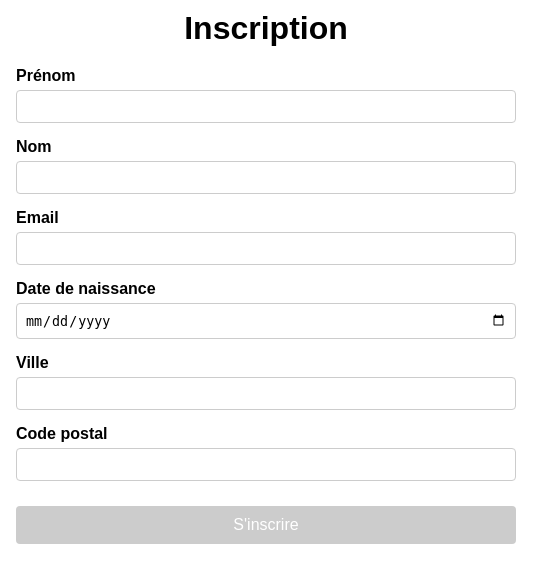
affiche l erreur 500 quand le serveur est down
Type "Kany" into the field labelled "Prénom" at (266, 107), box [16, 90, 516, 123]
Type "Chheng" into the field labelled "Nom" at (266, 178), box [16, 161, 516, 194]
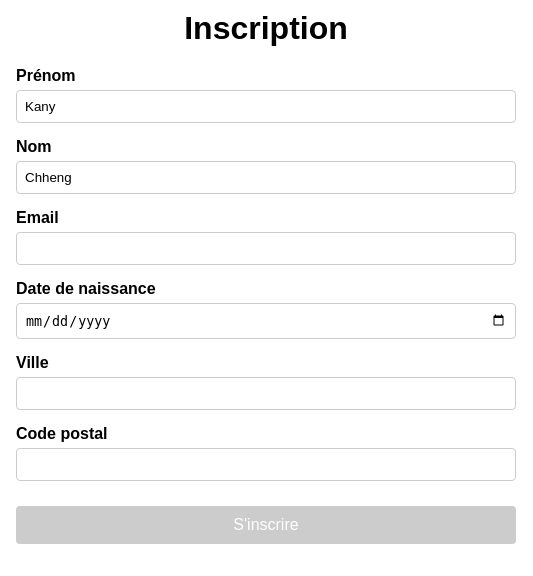
Type "kany@test.com" into the field labelled "Email" at (266, 249), box [16, 232, 516, 265]
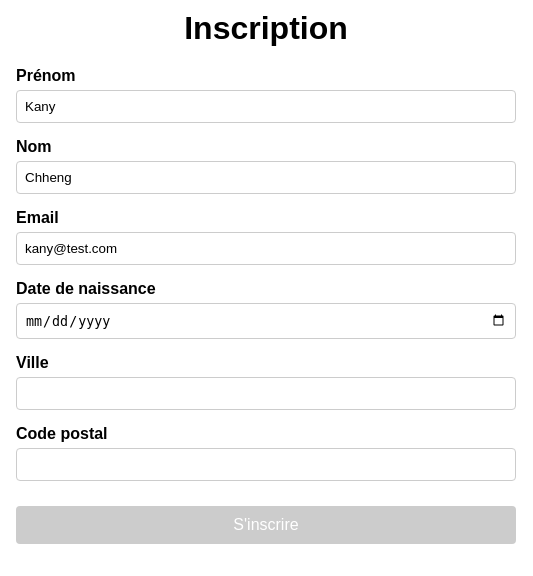
Type "1998-03-22" into the date field labelled "Date de naissance" at (266, 321), box [16, 303, 516, 339]
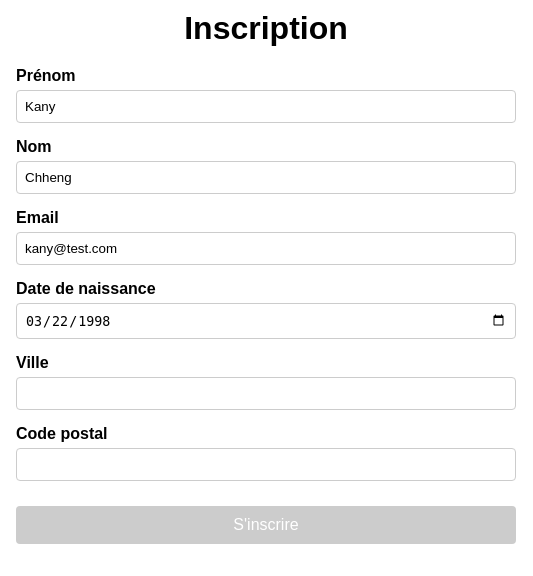
Type "Paris" into the field labelled "Ville" at (266, 393), box [16, 377, 516, 410]
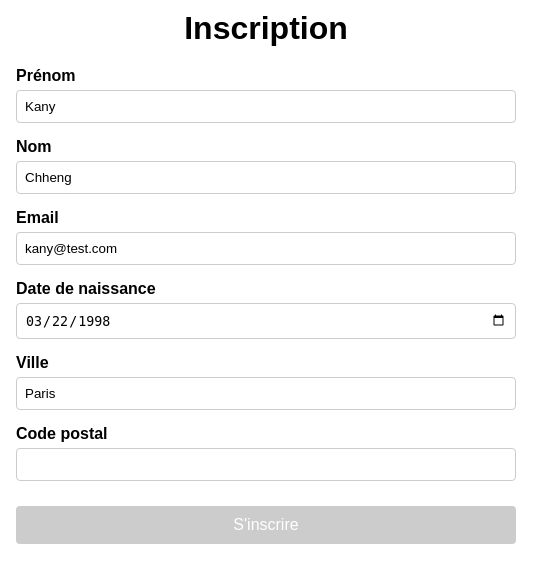
Type "75015" into the field labelled "Code postal" at (266, 464), box [16, 448, 516, 481]
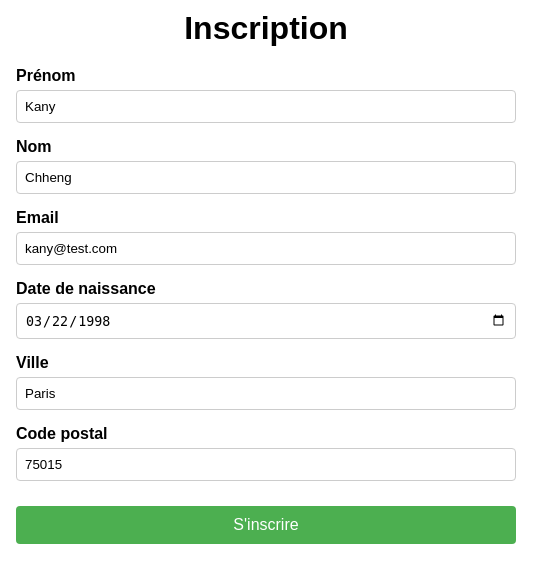
Click the button "S'inscrire" at (266, 525), box [16, 506, 516, 544]
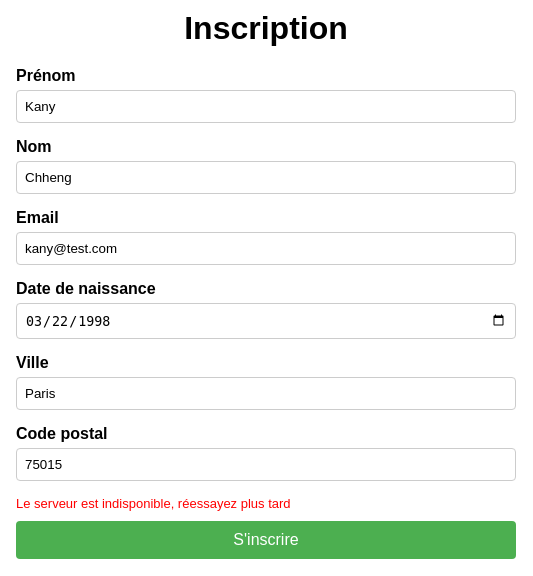
Result: the text "Le serveur est indisponible, réessayez plus tard" is shown at [16, 496, 291, 511]
